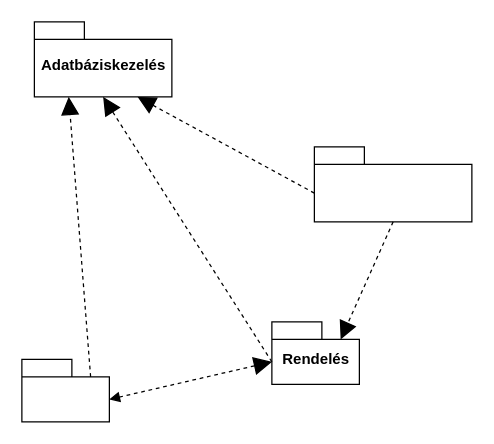
This 494x444 diagram has some shape labels left out. Each missing label, with the centre of its shape:
Felhasználókezelés: (x=392, y=184)
Fizetés: (x=65, y=390)
